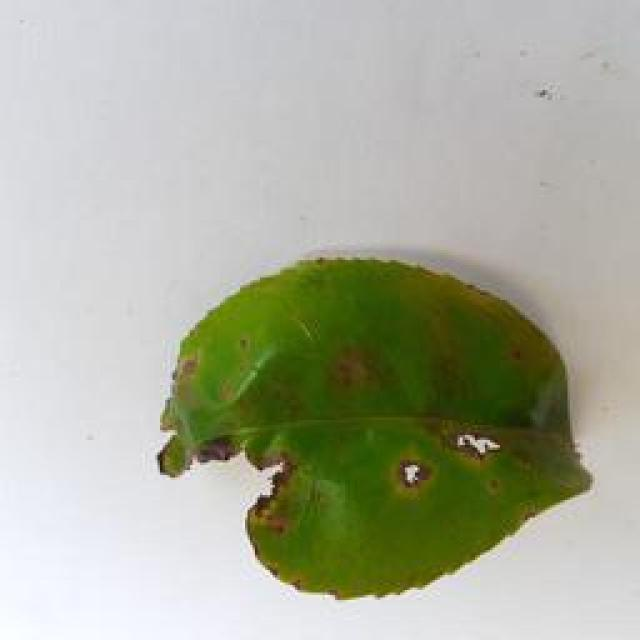Helopeltis: (141, 239, 598, 613)
